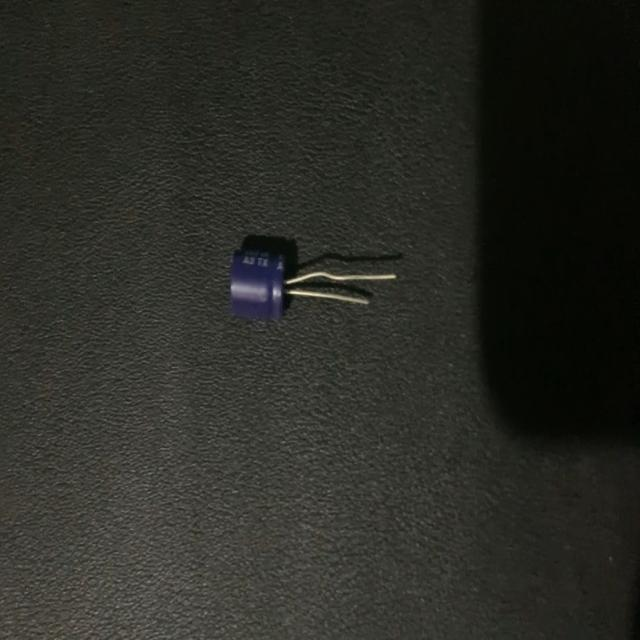capacitor: (227, 240, 400, 327)
